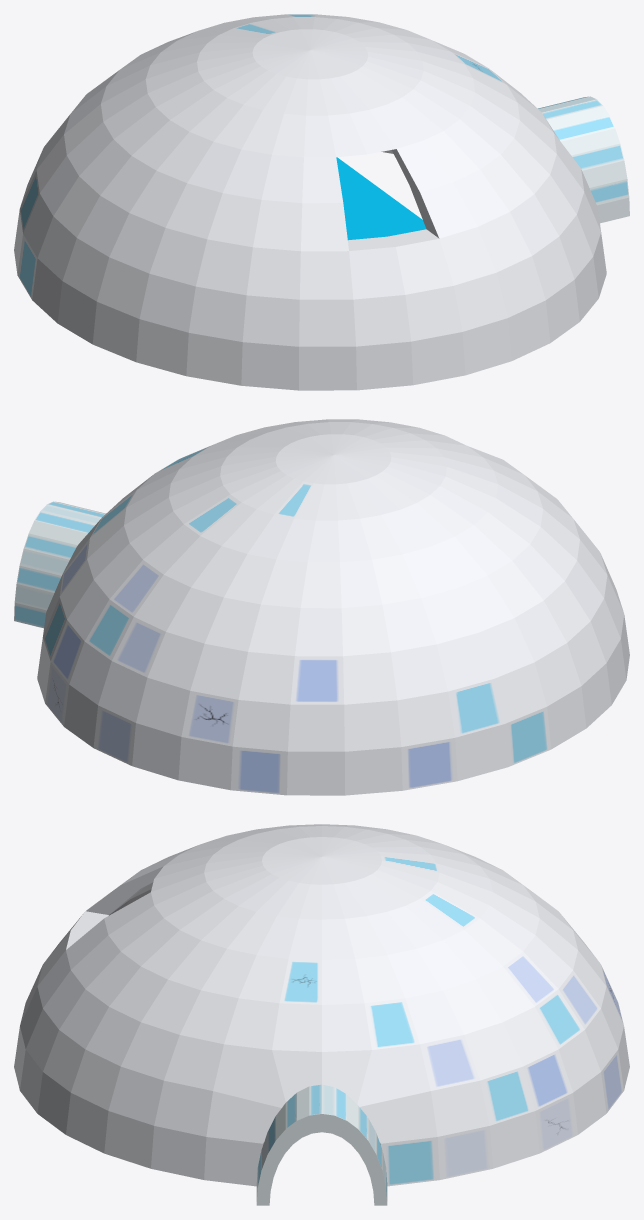
Rendered from igloo.loft.gltf.
The picture shows the model from 3 angles, top to bottom: view 1: azimuth 30°, elevation 25°; view 2: azimuth 150°, elevation 25°; view 3: azimuth 270°, elevation 25°; orthographic projection.
Visible parts, largest first — view 1: Cylinder; view 2: Cylinder; view 3: Cylinder.
Boxes of the visible parts, bbox=[...] form: Cylinder: bbox=[14, 14, 629, 390]; Cylinder: bbox=[14, 419, 629, 795]; Cylinder: bbox=[14, 824, 629, 1205].
Size of what is drawn, in the model's own units: 22.86 by 8.57 by 22.77.
3 materials, 3 textured.
